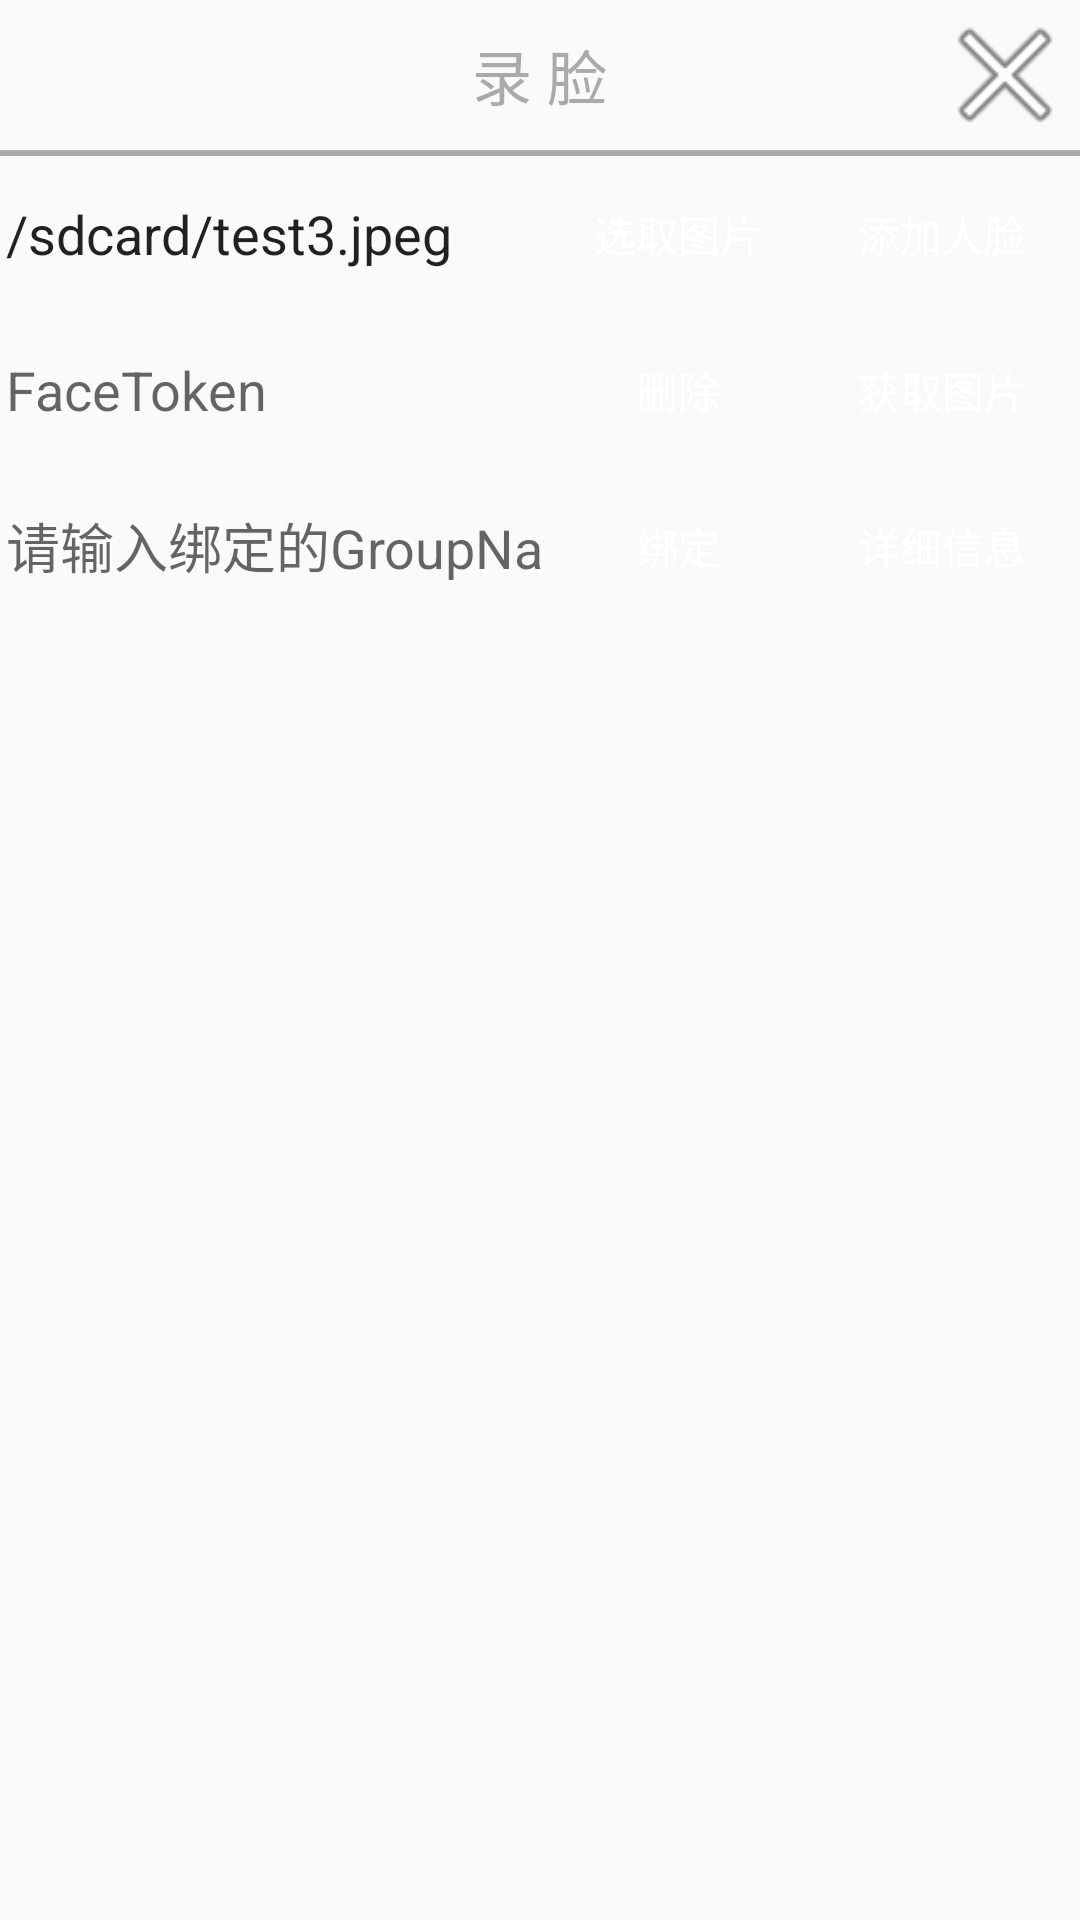

Where to tap for icons on this 1080 × 1920 app screen, as (x,y):
close clear cancel: (1005,75)
